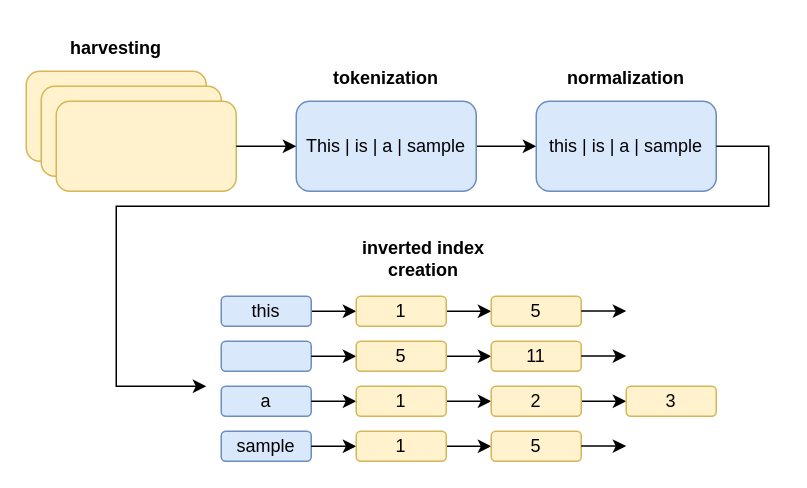
This 807x488 diagram has some shape labels left out. The centre of each missing label's shape, as x and y in pixels:
"document n" belongs at (x=145, y=145).
"is" belongs at (x=265, y=355).
